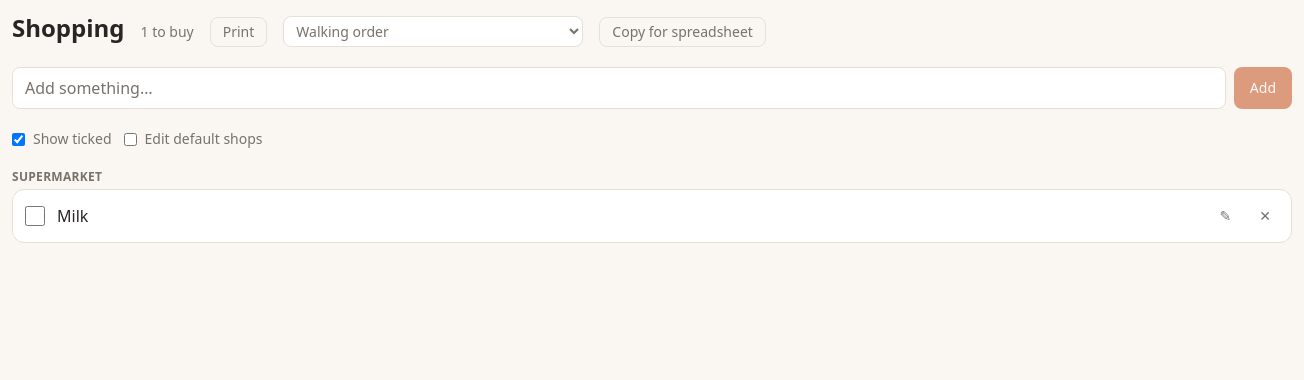
Test: ShoppingListPage editing › edits a bare item into a quantity, and can be cancelled without saving
This screenshot has width=1304, height=380.
Check: the text "Milk" is shown, box [57,205,88,227]
Step 1. Click the button named "Edit Milk" → point(1225, 216), box [1212,202,1239,230]
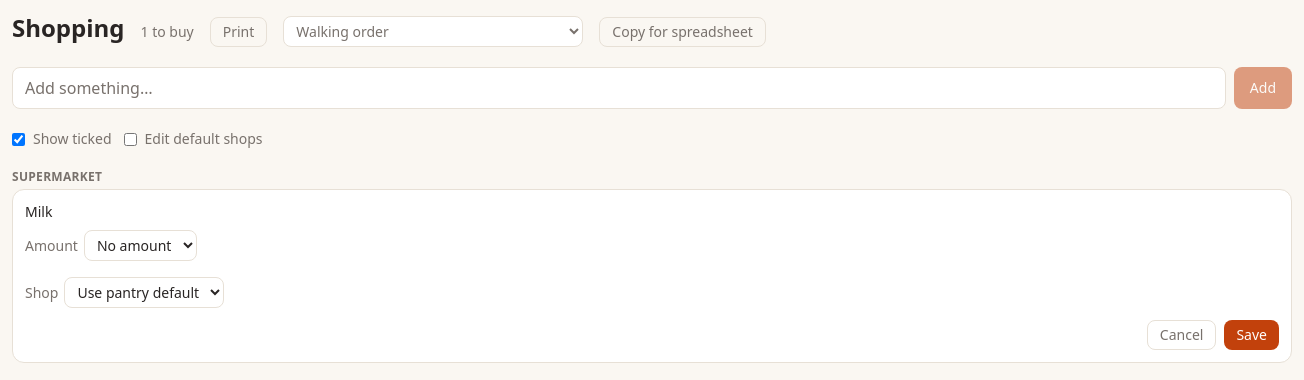
Check: the button "Cancel" is shown
Step 2. Click the button "Cancel" → point(1182, 335), box [1147,320,1216,350]
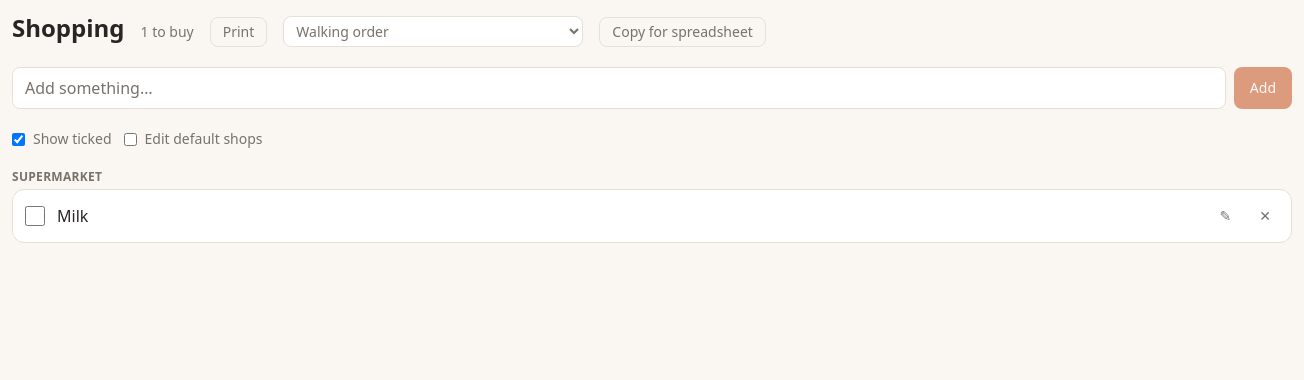
Check: the button named "Edit Milk" is shown, box [1212,202,1239,230]
